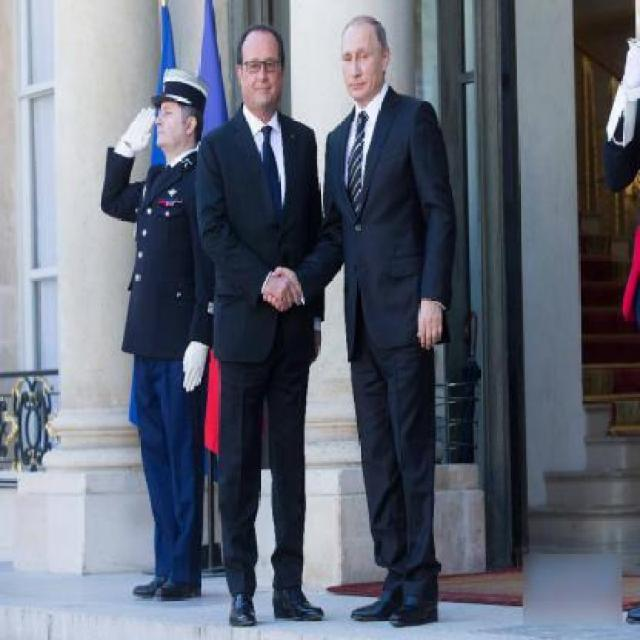Person: (308, 0, 460, 622), (206, 19, 325, 623), (105, 68, 206, 614)
